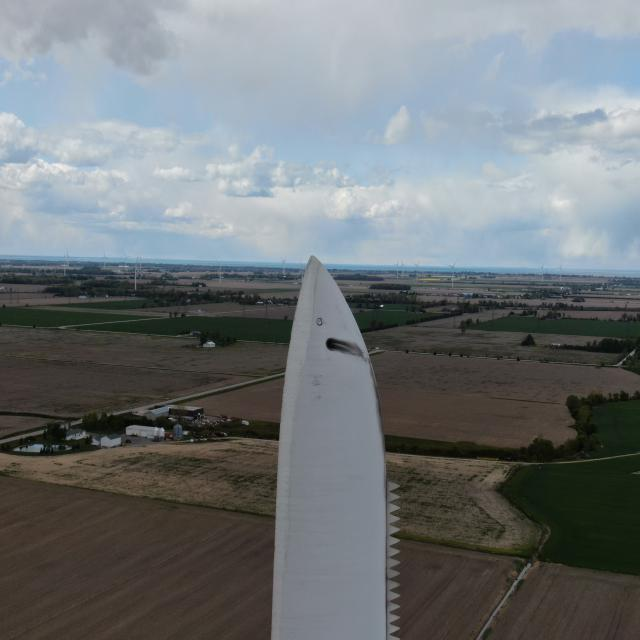damage: (322, 333, 367, 365)
